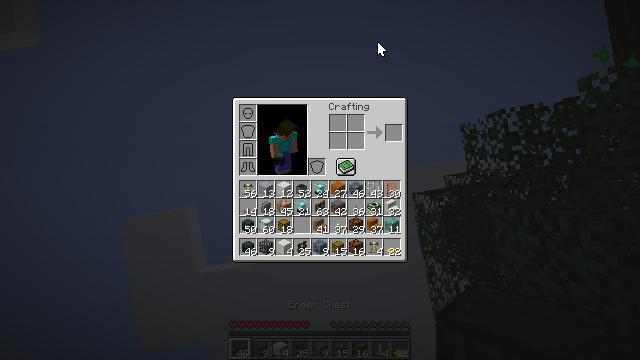cursor: (377, 41, 387, 57)
